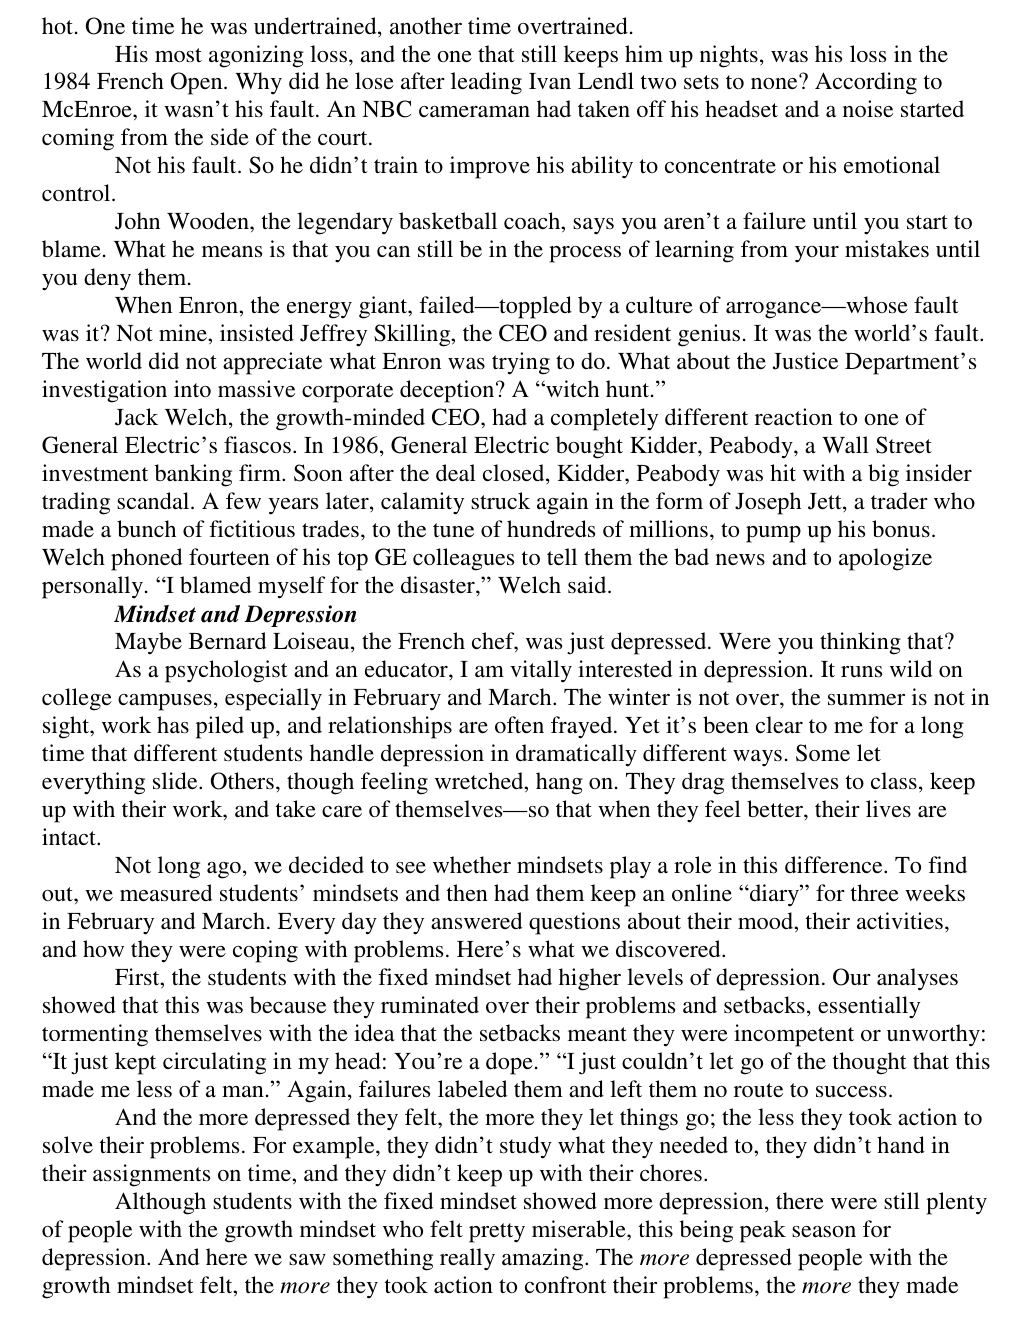latin: (36, 631, 988, 847), (37, 202, 986, 406), (34, 406, 977, 601), (39, 14, 968, 202), (33, 962, 993, 1104), (28, 1186, 986, 1299), (38, 855, 976, 963), (36, 1103, 998, 1187), (114, 601, 360, 631)
